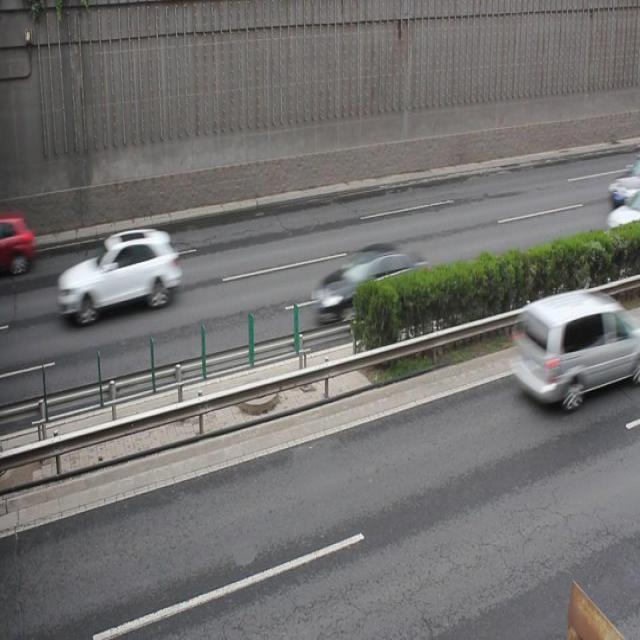car: (56, 224, 180, 322), (314, 242, 429, 326)
truck: (508, 289, 630, 411)
